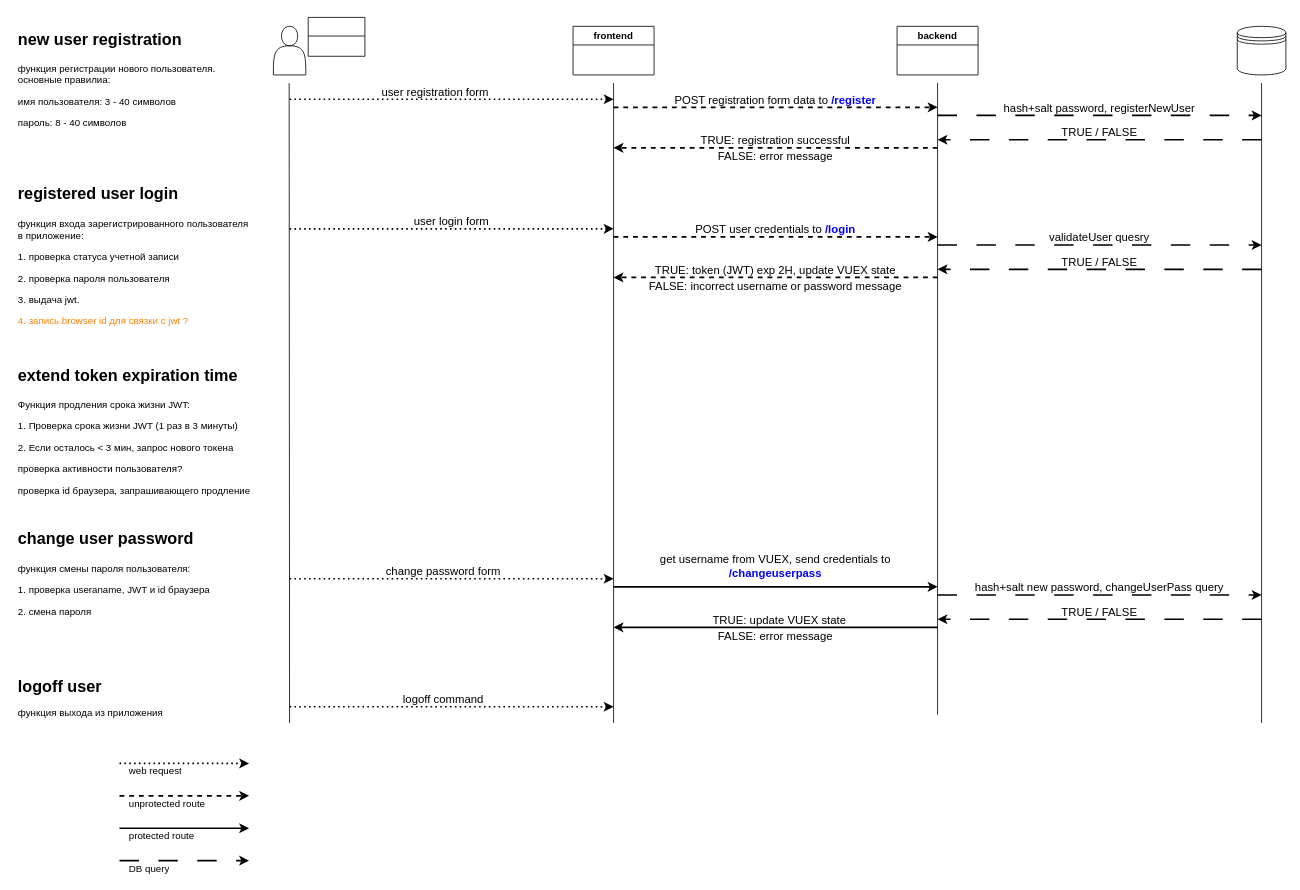
Some shapes in this 1300 by 890 pixel diagram are drawn without their labels. The shapes that lost their labels are listed below. From the top down, each one's box as (x1, y1, x2, y2) in pixels, then its label:
(307, 17, 365, 56): browser
(1236, 26, 1286, 75): postgres
